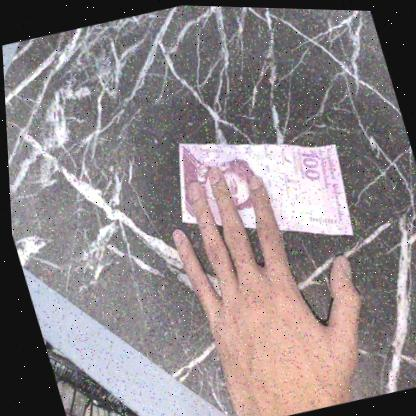one_hundred-front-vef: (156, 104, 361, 273)
